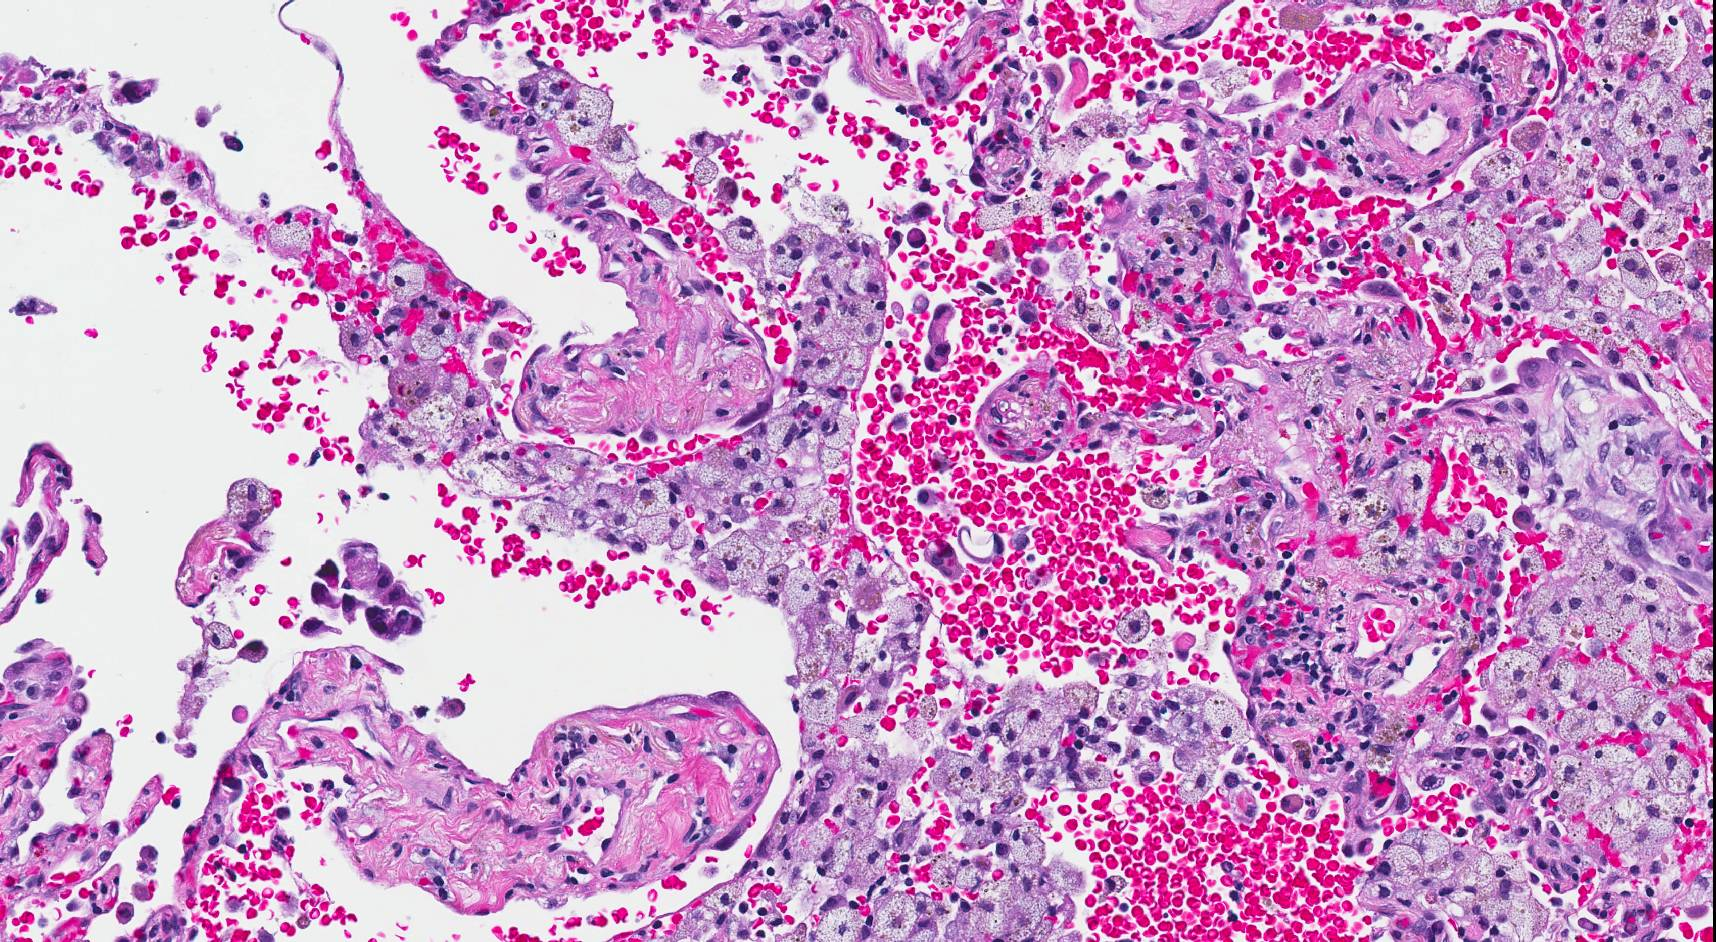stas: (301, 537, 428, 641)
